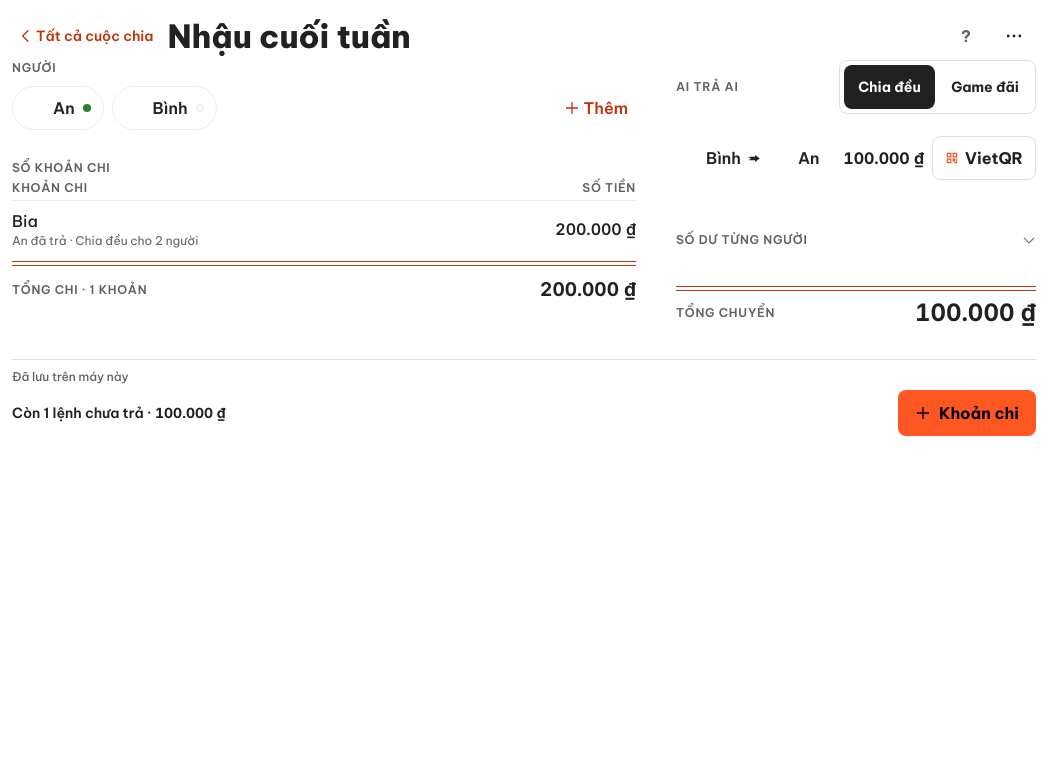
Scenario: Pha 1+2 — nhánh Game đãi là điểm mở game DUY NHẤT › mặc định nhánh Chia đều: panel game không hiện; chọn Game đãi -> panel mở ngay tại mục với đúng 1 nút «Chơi»; quay về Chia đều -> panel đóng
The image size is (1048, 780).
Check: the button "Chơi" is not shown
Click the radio button labelled "Game đãi".
click(985, 87)  # box [939,65,1031,109]
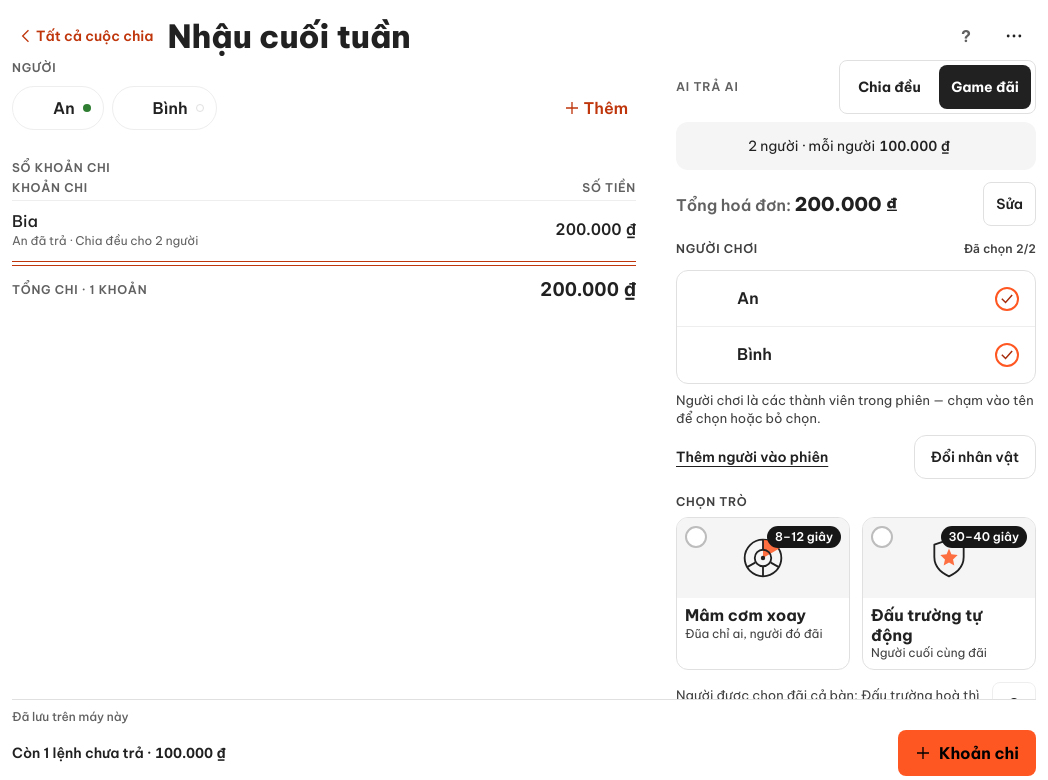
Click the radio button labelled "Chia đều".
click(889, 87)  # box [844,65,935,109]
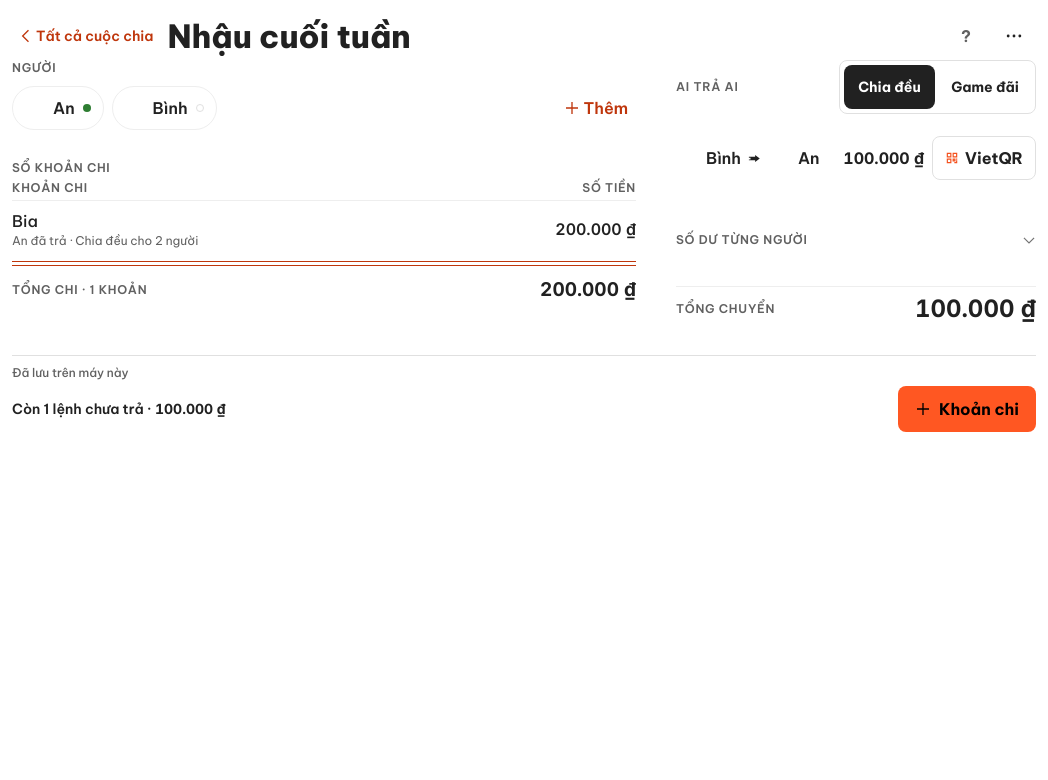
Check: the heading "CHƠI" is gone
